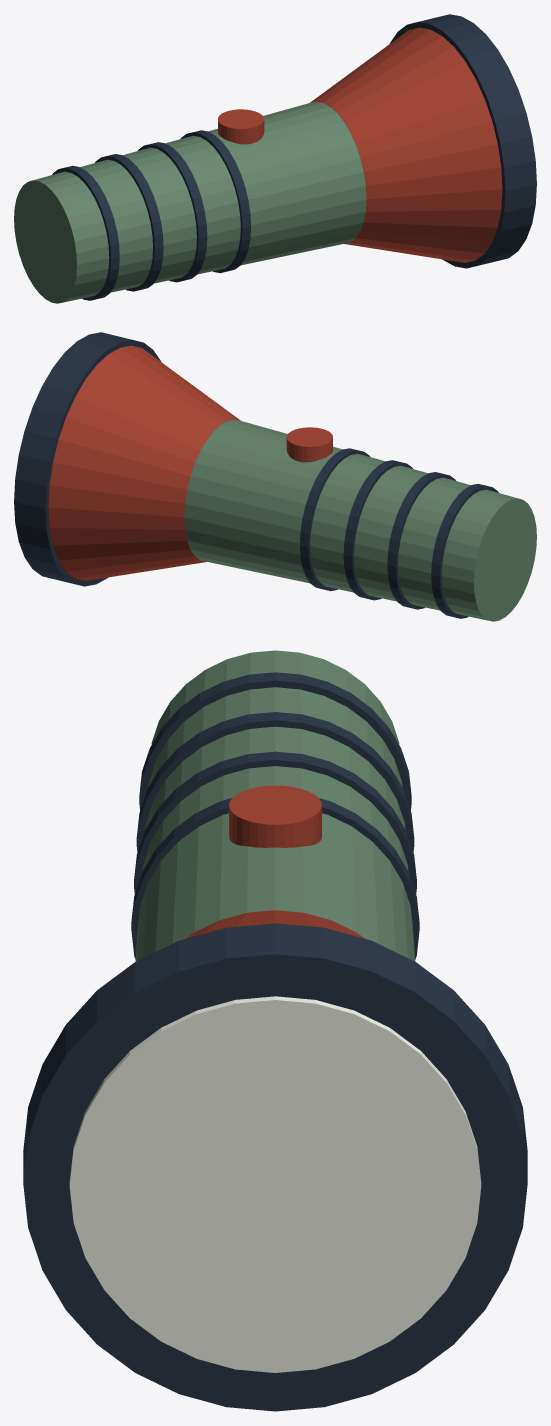
Rendered from flashlight.glb.
The picture shows the model from 3 angles, top to bottom: view 1: azimuth 30°, elevation 25°; view 2: azimuth 150°, elevation 25°; view 3: azimuth 270°, elevation 25°; orthographic projection. The views are drawn at different scales.
Parts seen in each view (by area): view 1: grip, head, bezel, grip ring 3, grip ring 2, grip ring 1, grip ring 0, switch; view 2: grip, head, bezel, grip ring 3, grip ring 2, grip ring 1, grip ring 0, switch; view 3: lens, bezel, grip, switch, grip ring 0, grip ring 1, grip ring 2, grip ring 3, head.
Boxes of the visible parts, x1=… form: grip: x1=14, y1=101, x2=366, y2=303; head: x1=310, y1=27, x2=502, y2=262; bezel: x1=389, y1=14, x2=536, y2=268; grip ring 3: x1=180, y1=130, x2=250, y2=273; grip ring 2: x1=138, y1=142, x2=207, y2=282; grip ring 1: x1=95, y1=154, x2=163, y2=291; grip ring 0: x1=52, y1=165, x2=119, y2=300; switch: x1=218, y1=109, x2=264, y2=144; grip: x1=184, y1=419, x2=536, y2=621; head: x1=48, y1=345, x2=240, y2=580; bezel: x1=14, y1=332, x2=161, y2=586; grip ring 3: x1=300, y1=448, x2=370, y2=591; grip ring 2: x1=343, y1=460, x2=412, y2=600; grip ring 1: x1=387, y1=472, x2=455, y2=609; grip ring 0: x1=431, y1=483, x2=498, y2=618; switch: x1=286, y1=427, x2=332, y2=462; lens: x1=69, y1=996, x2=481, y2=1372; bezel: x1=23, y1=923, x2=527, y2=1411; grip: x1=135, y1=650, x2=415, y2=961; switch: x1=229, y1=785, x2=321, y2=847; grip ring 0: x1=139, y1=672, x2=411, y2=810; grip ring 1: x1=136, y1=712, x2=414, y2=852; grip ring 2: x1=134, y1=751, x2=416, y2=894; grip ring 3: x1=131, y1=798, x2=419, y2=959; head: x1=186, y1=910, x2=364, y2=938.
Bounding box in the file's own units: 1.5 × 0.76 × 0.76.
